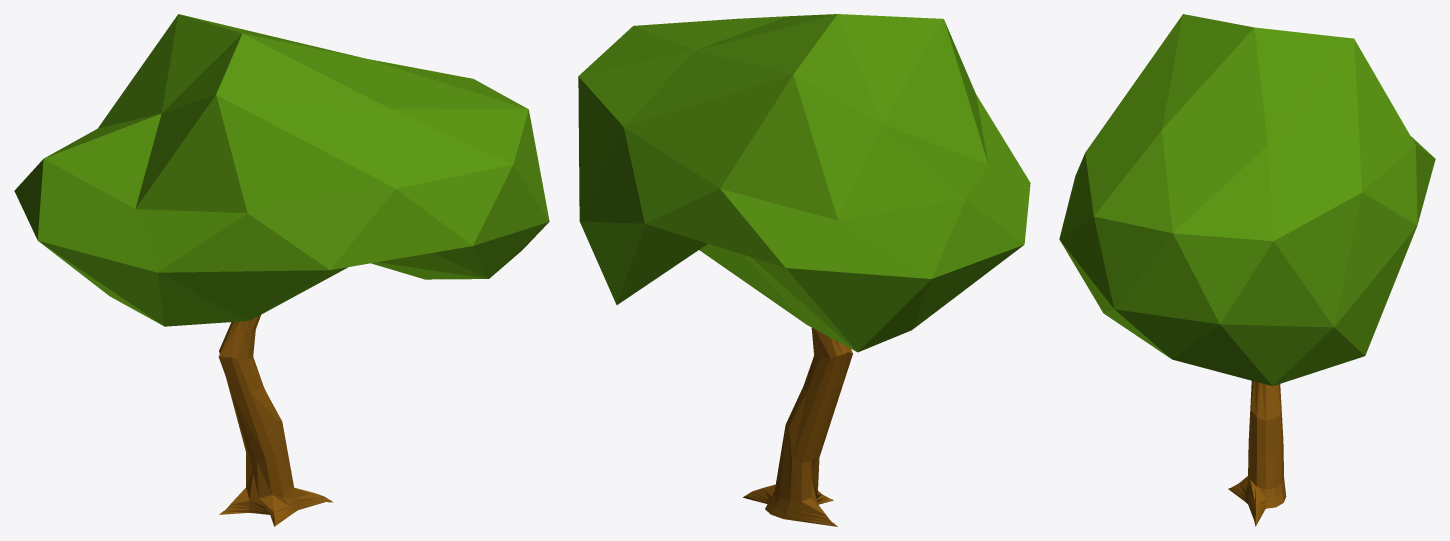
The model's file is arbol3.fbx.
3 views of the same model, side by side, from view 1: azimuth 30°, elevation 25°; view 2: azimuth 150°, elevation 25°; view 3: azimuth 270°, elevation 25° (orthographic). The views are drawn at different scales.
Parts seen in each view (by area): view 1: skp5771_1.001, Cylinder01.001; view 2: skp5771_1.001, Cylinder01.001; view 3: skp5771_1.001, Cylinder01.001.
Part boxes in pixels (x1=…): skp5771_1.001: x1=14, y1=14, x2=549, y2=326; Cylinder01.001: x1=218, y1=315, x2=333, y2=526; skp5771_1.001: x1=578, y1=14, x2=1030, y2=352; Cylinder01.001: x1=743, y1=328, x2=852, y2=526; skp5771_1.001: x1=1059, y1=14, x2=1435, y2=386; Cylinder01.001: x1=1228, y1=381, x2=1286, y2=526.
Size of the model in its own units: 2605 by 2670 by 1990.
